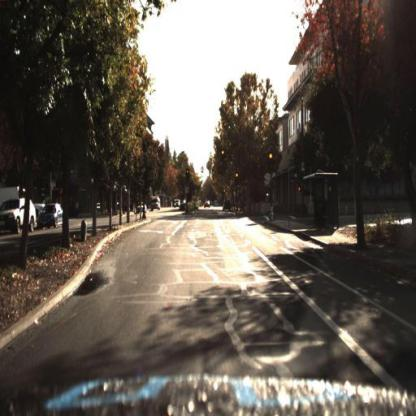car: (0, 195, 37, 239), (0, 196, 38, 234), (38, 197, 67, 230), (41, 202, 65, 229), (149, 194, 161, 211), (134, 201, 148, 215), (171, 194, 181, 212), (221, 200, 232, 213), (136, 202, 146, 214), (172, 195, 180, 210)
trafficLight: (217, 148, 225, 164)
trafficLight-Red: (267, 152, 274, 171), (184, 165, 191, 180), (234, 168, 241, 183)
trafficLight-RedLeft: (184, 167, 192, 184)
trafficLight-Yellow: (267, 148, 274, 160), (232, 170, 239, 178)
